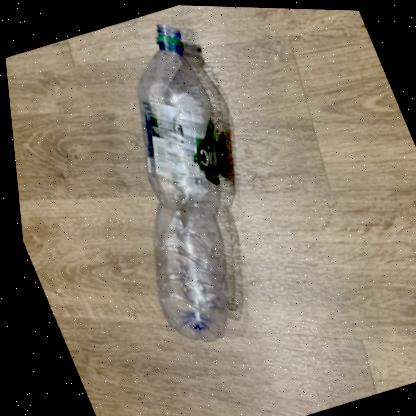Plastic: (136, 22, 226, 341)
